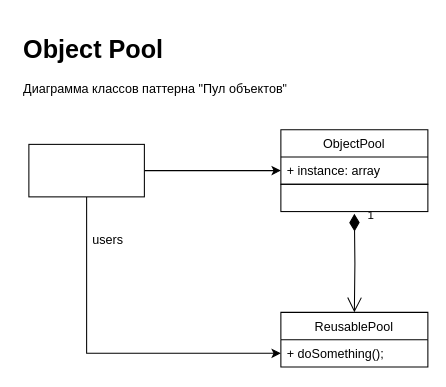
Image size: 446x387. Some labels were removed from this diagram. The centre of each missing label's shape, as x and y in pixels:
+ get(): the point at 354,197
Client: the point at 86,170
